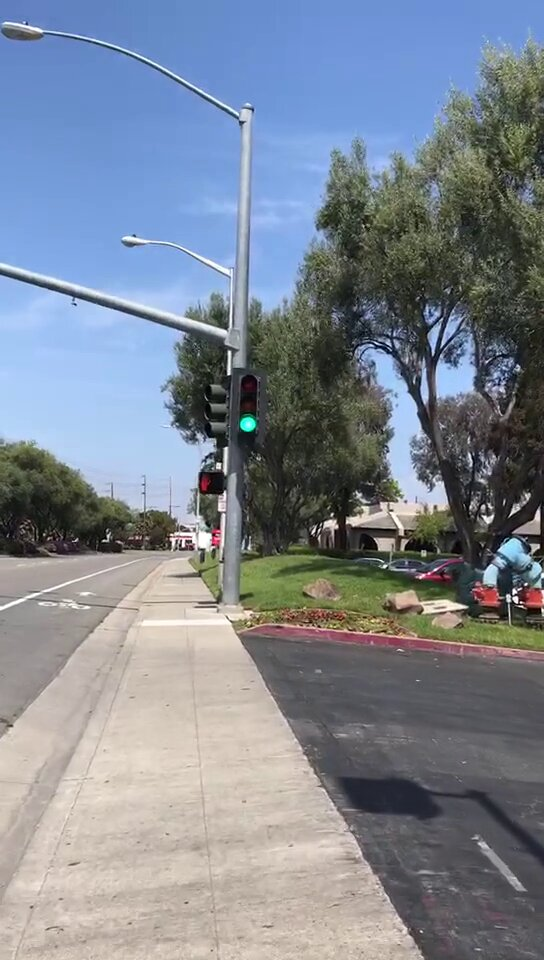green_light: (233, 370, 266, 441)
